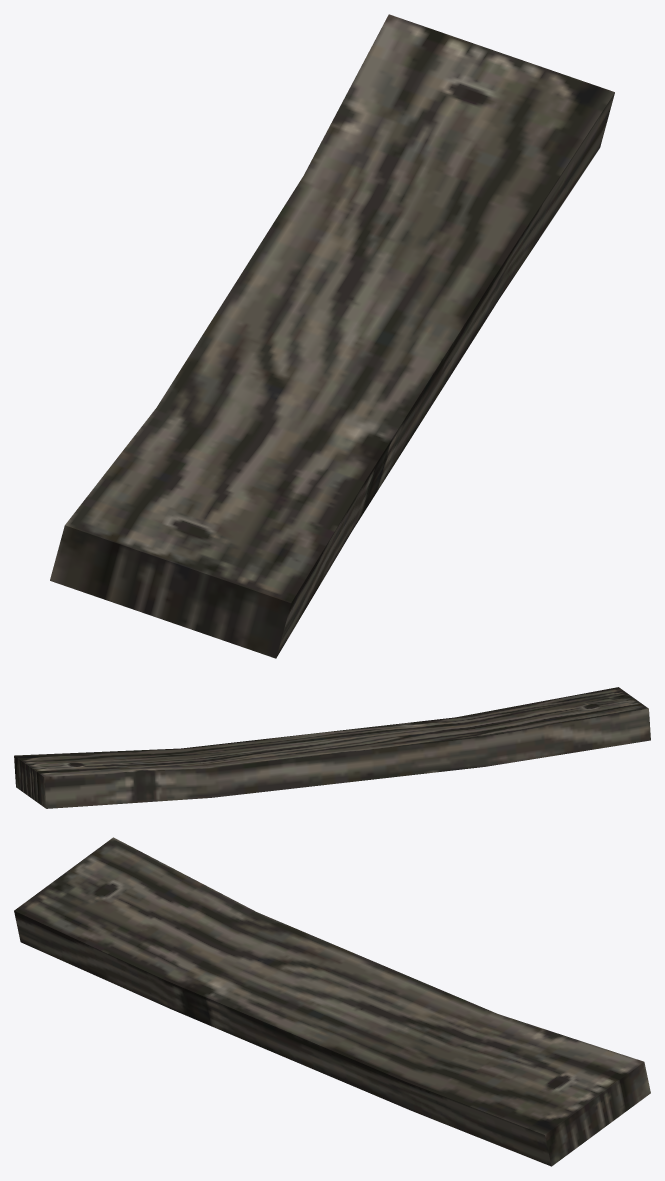
Rendered from ANIMATEDINSTANCES_BOARD_FALL6__BA.fbx.
The picture shows the model from 3 angles, top to bottom: view 1: azimuth 30°, elevation 25°; view 2: azimuth 150°, elevation 25°; view 3: azimuth 270°, elevation 25°; orthographic projection. The views are drawn at different scales.
Parts seen in each view (by area): view 1: ANIMATEDINSTANCES_BOARD_FALL6__BA; view 2: ANIMATEDINSTANCES_BOARD_FALL6__BA; view 3: ANIMATEDINSTANCES_BOARD_FALL6__BA.
Part boxes in pixels (box(x1,y1,x2,y2)): ANIMATEDINSTANCES_BOARD_FALL6__BA: box(50, 14, 614, 658); ANIMATEDINSTANCES_BOARD_FALL6__BA: box(14, 687, 650, 808); ANIMATEDINSTANCES_BOARD_FALL6__BA: box(14, 837, 650, 1166).
Size of the model in its own units: 15489 by 1978 by 15489.
Materials: 1 (1 with a texture image).
